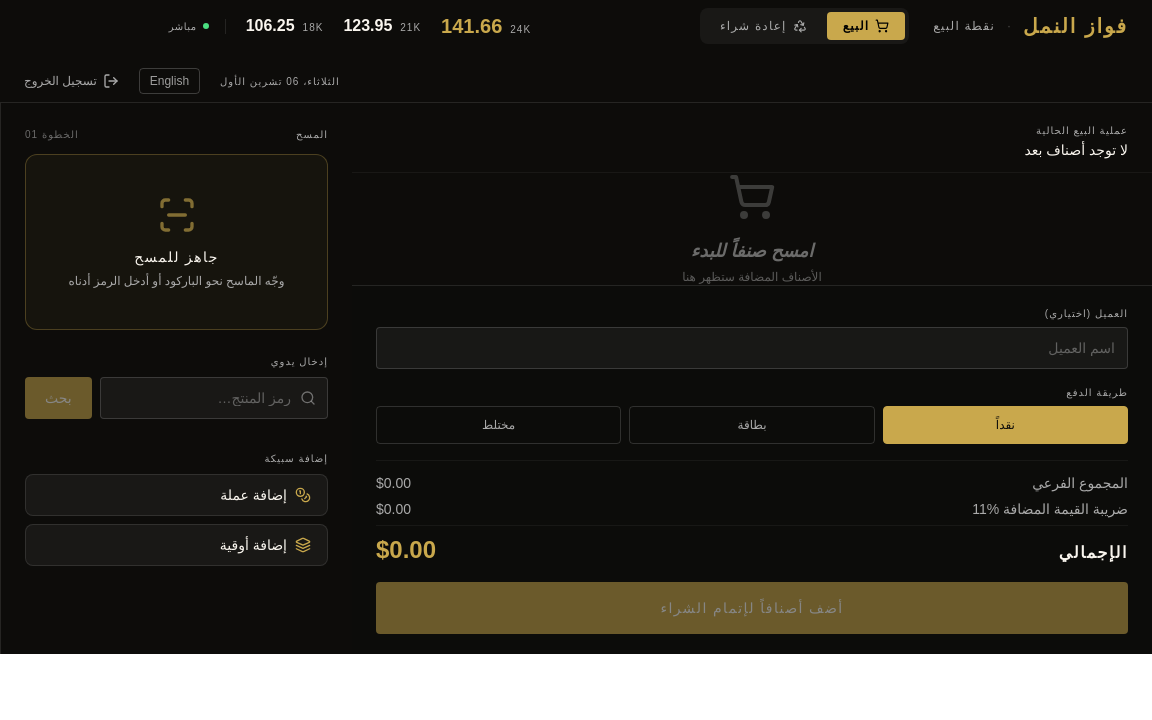
POS sell — a lookup's rate as a decimal string or a number (NEX-54) › Arabic: the unpriceable message is translated, and the next good scan clears it
Type "FN-21K-0001" into the field named "إدخال يدوي".
click(214, 398); type("FN-21K-0001")  # box [100,377,328,419]
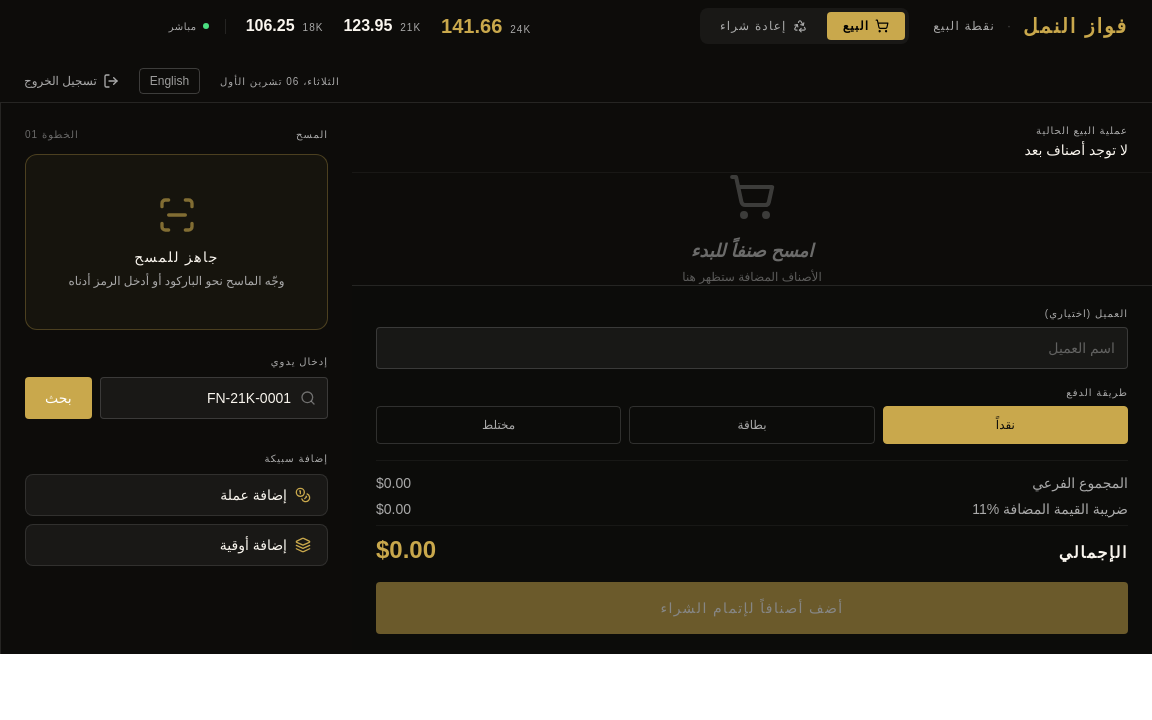
Click the button "بحث".
click(58, 398)  # box [25,377,92,419]
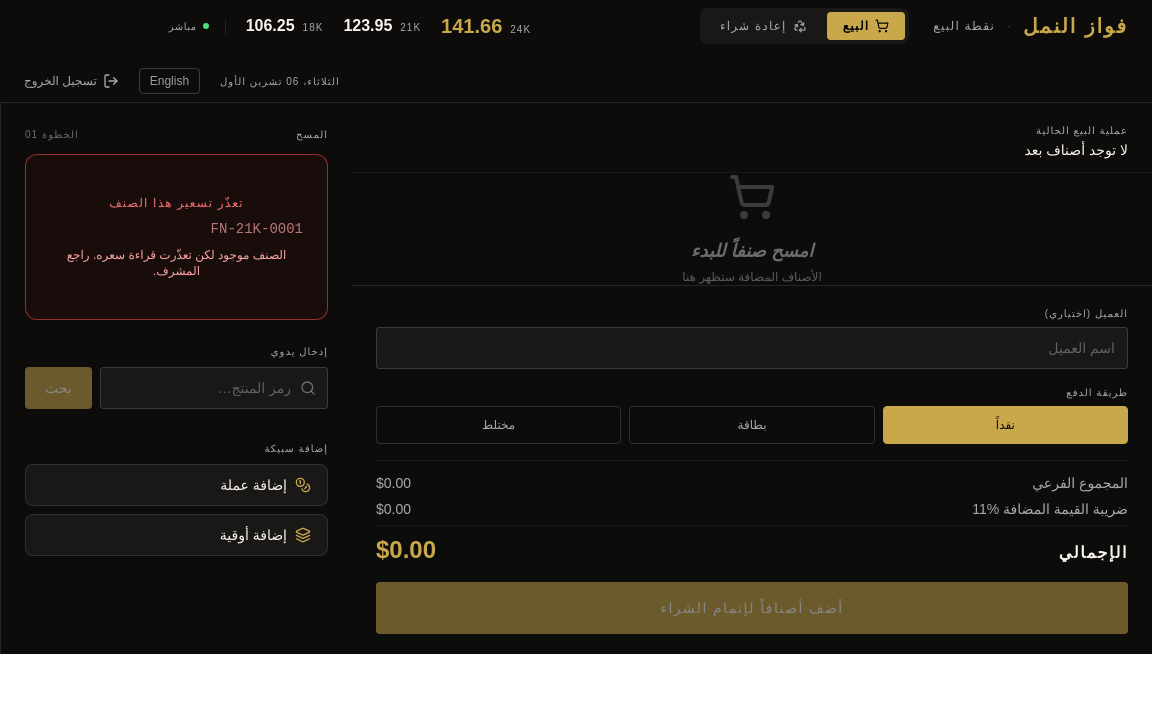
Expected: the text "تعذّر تسعير هذا الصنف" is shown, [109,196,244,210]
Expected: the text "الصنف موجود لكن تعذّرت قراءة سعره. راجع المشرف." is shown, [50,247,303,279]
Type "FN-21K-0001" into the field named "إدخال يدوي".
click(214, 388); type("FN-21K-0001")  # box [100,367,328,409]
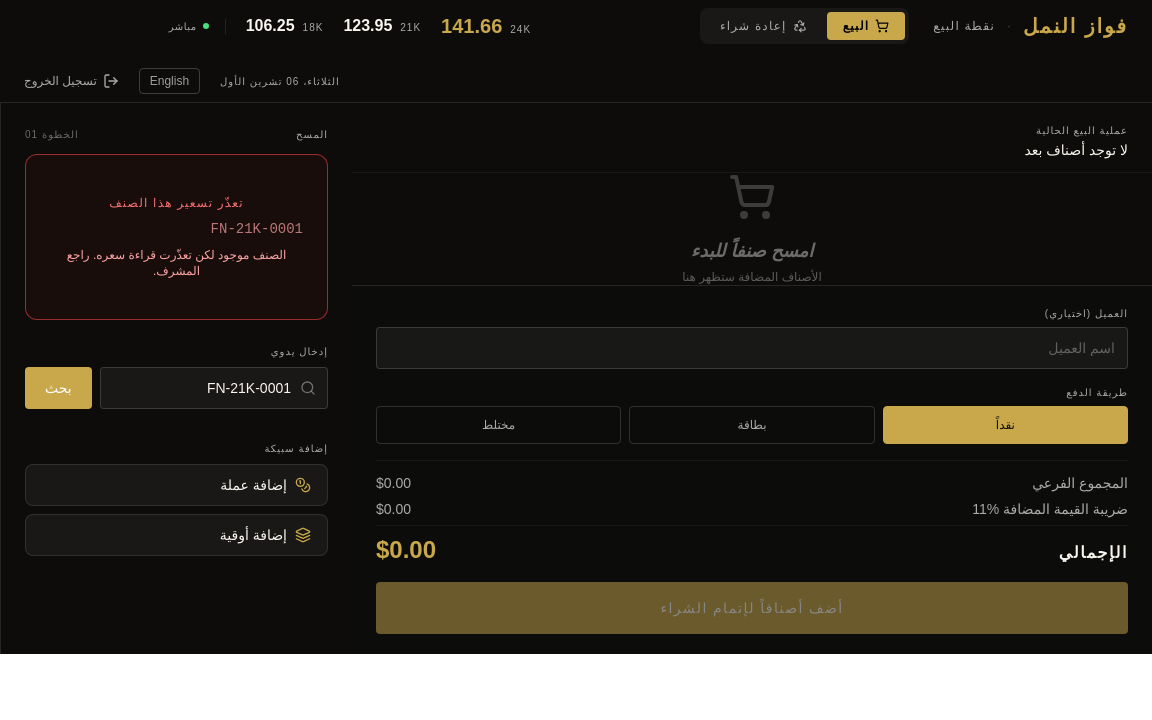
Click the button "بحث".
click(58, 388)  # box [25,367,92,409]
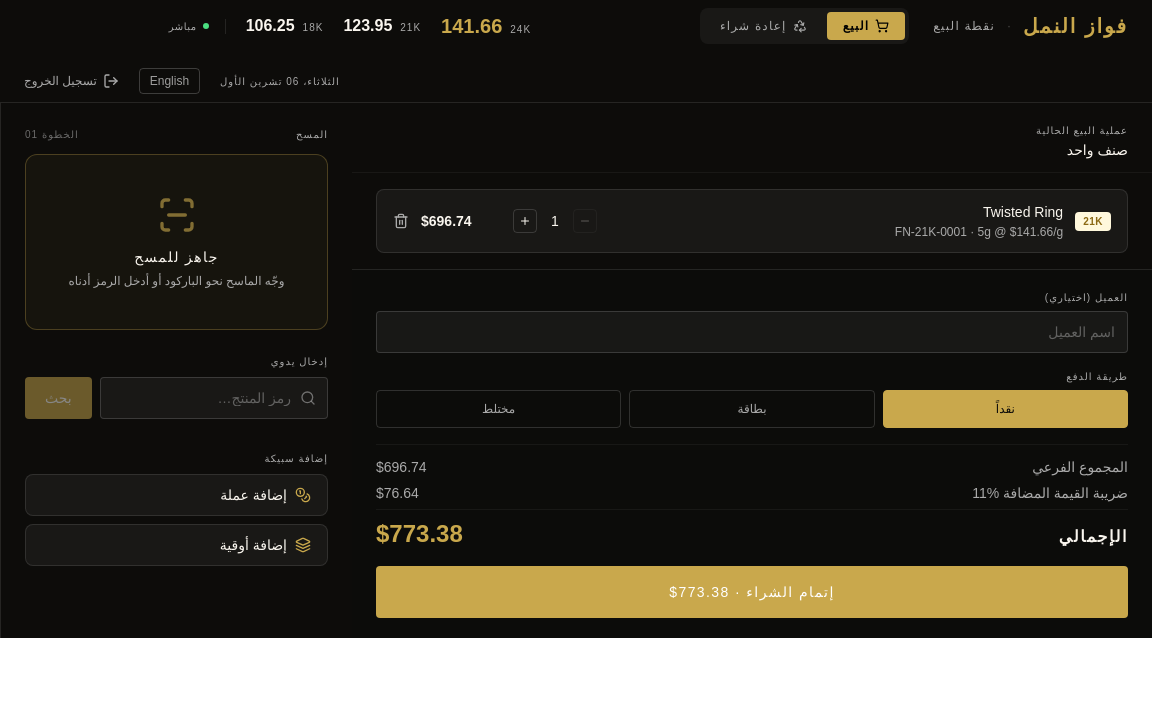
Expected: the text "Twisted Ring" is shown, [983,204,1063,220]
Expected: the text "تعذّر تسعير هذا الصنف" is gone
